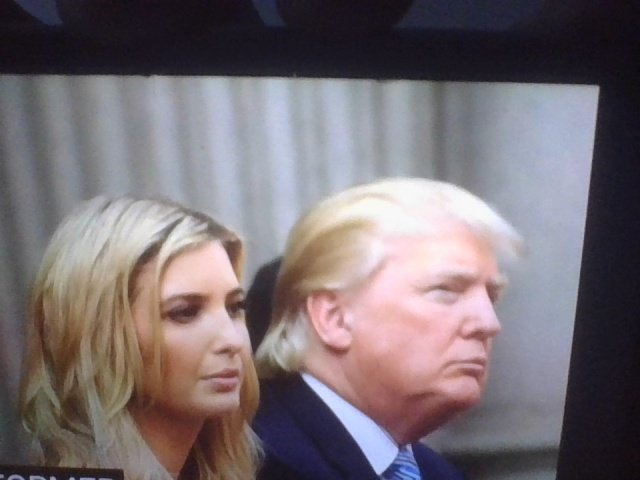fake: (320, 147, 527, 441), (105, 196, 271, 432)
